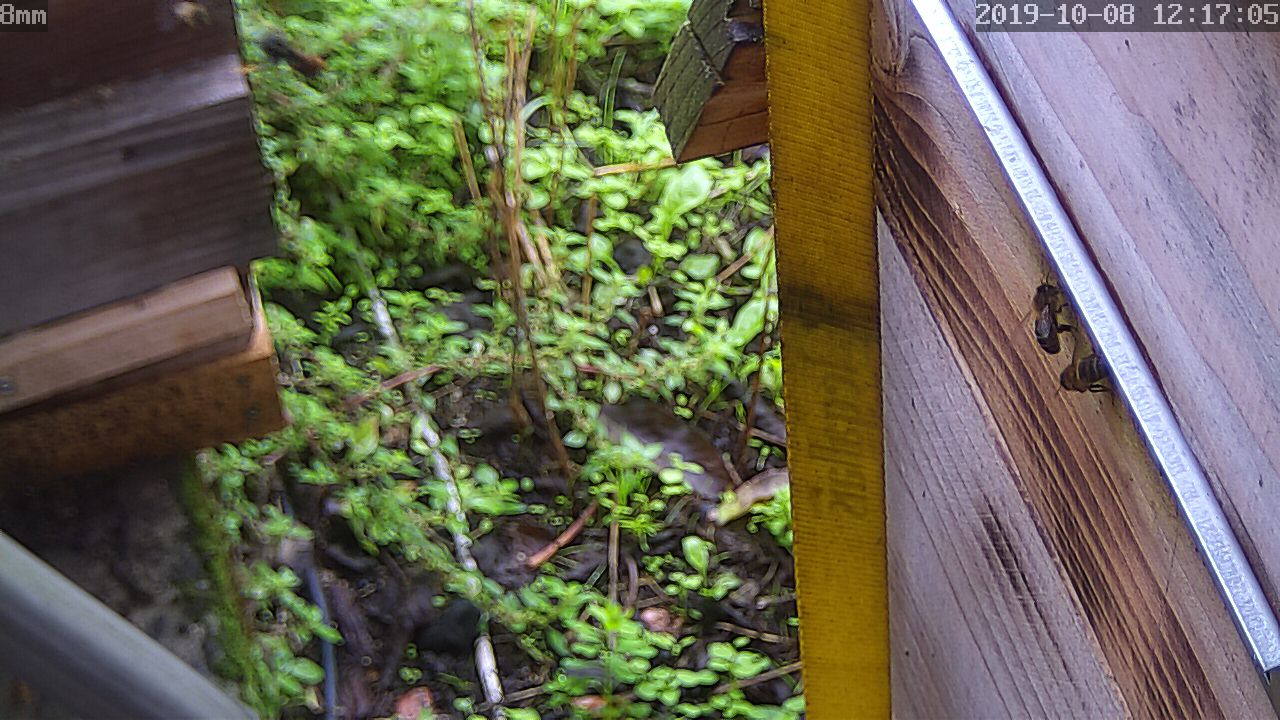bee: (1018, 266, 1081, 357)
hornet: (238, 20, 325, 89)
